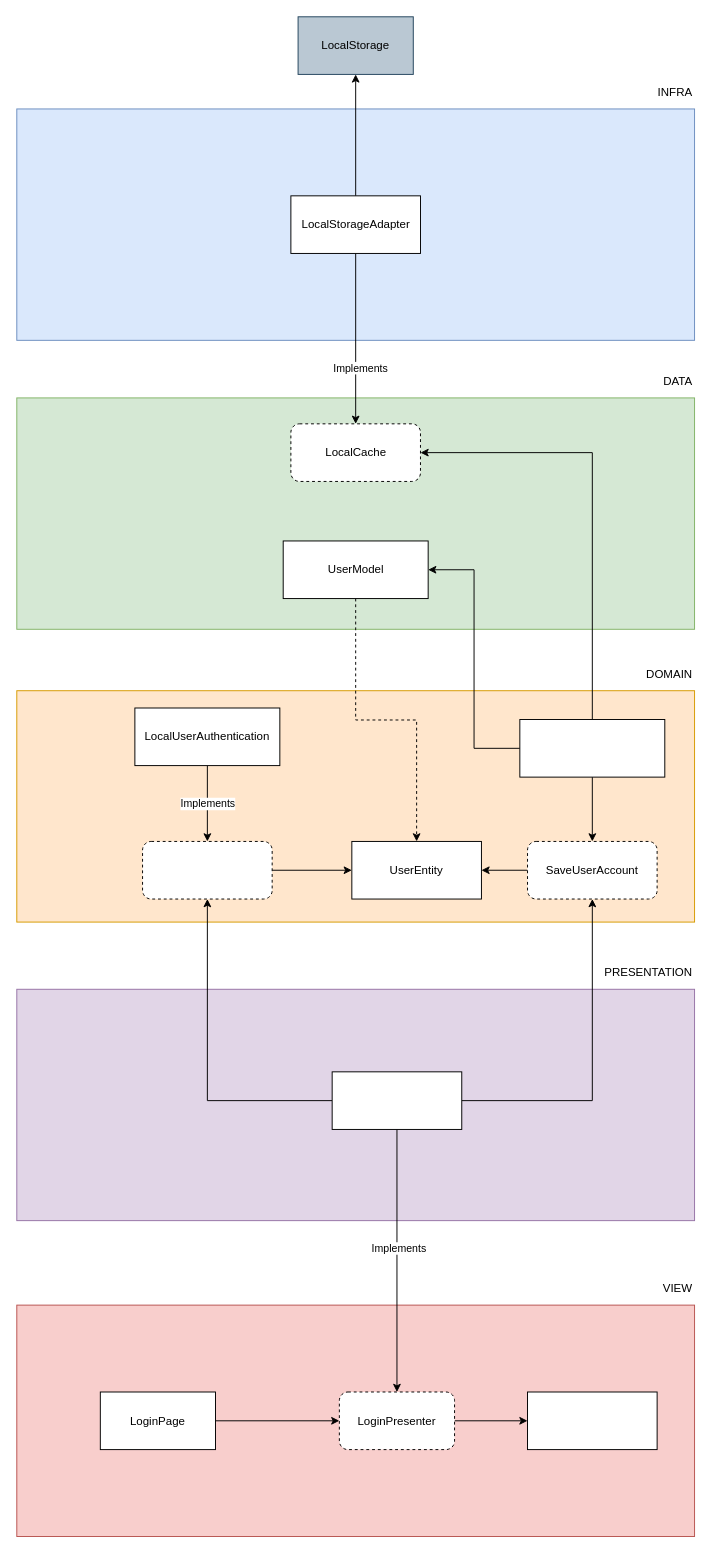
The diagram is 711 pixels wide and 1553 high, and some of its shapes have lost their labels. The centre of each missing label's shape, as x and y in pixels:
"CubitLoginPresenter" goes at (396,1100).
"LocalSaveUserAccount" goes at (592,748).
"LoginState" goes at (592,1420).
"UserAuthentication" goes at (207,869).
